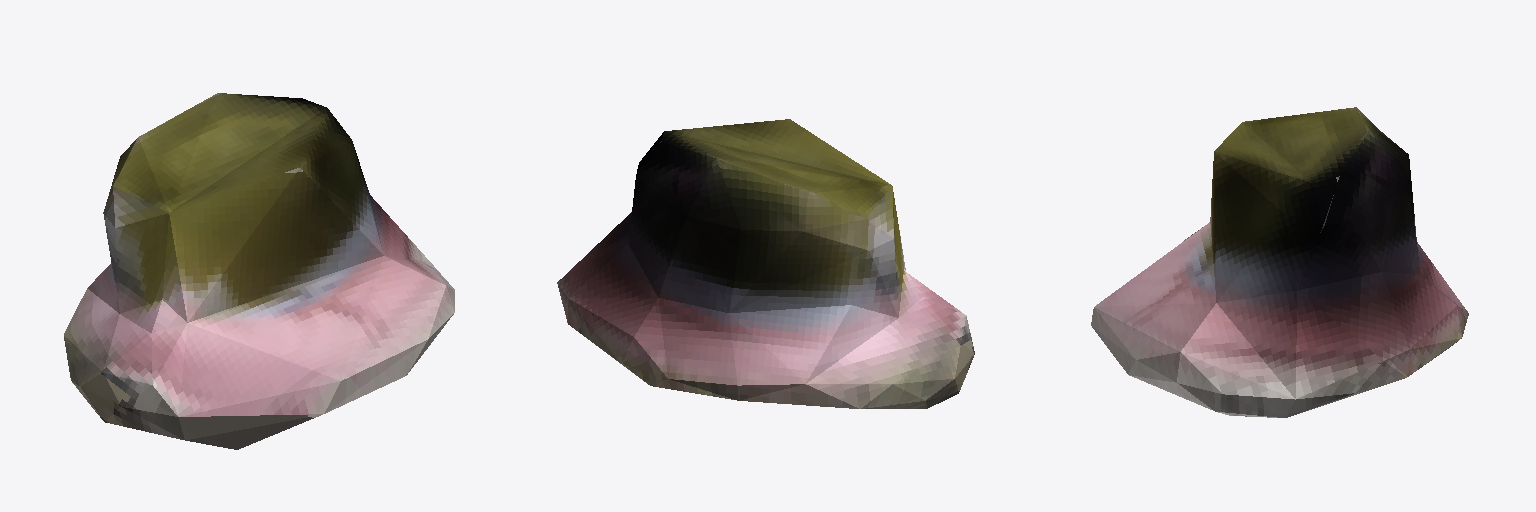
The picture shows the model from 3 angles: view 1: azimuth 30°, elevation 25°; view 2: azimuth 150°, elevation 25°; view 3: azimuth 270°, elevation 25°; orthographic projection.
Bounding box in the file's own units: 3.28 × 2.22 × 2.96.
Materials: 2 (2 with a texture image).